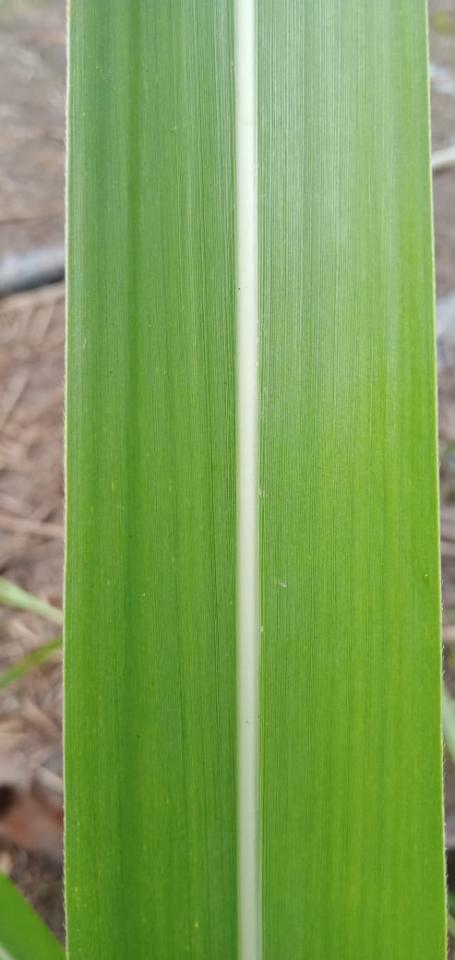Healthy: (62, 0, 447, 959)
